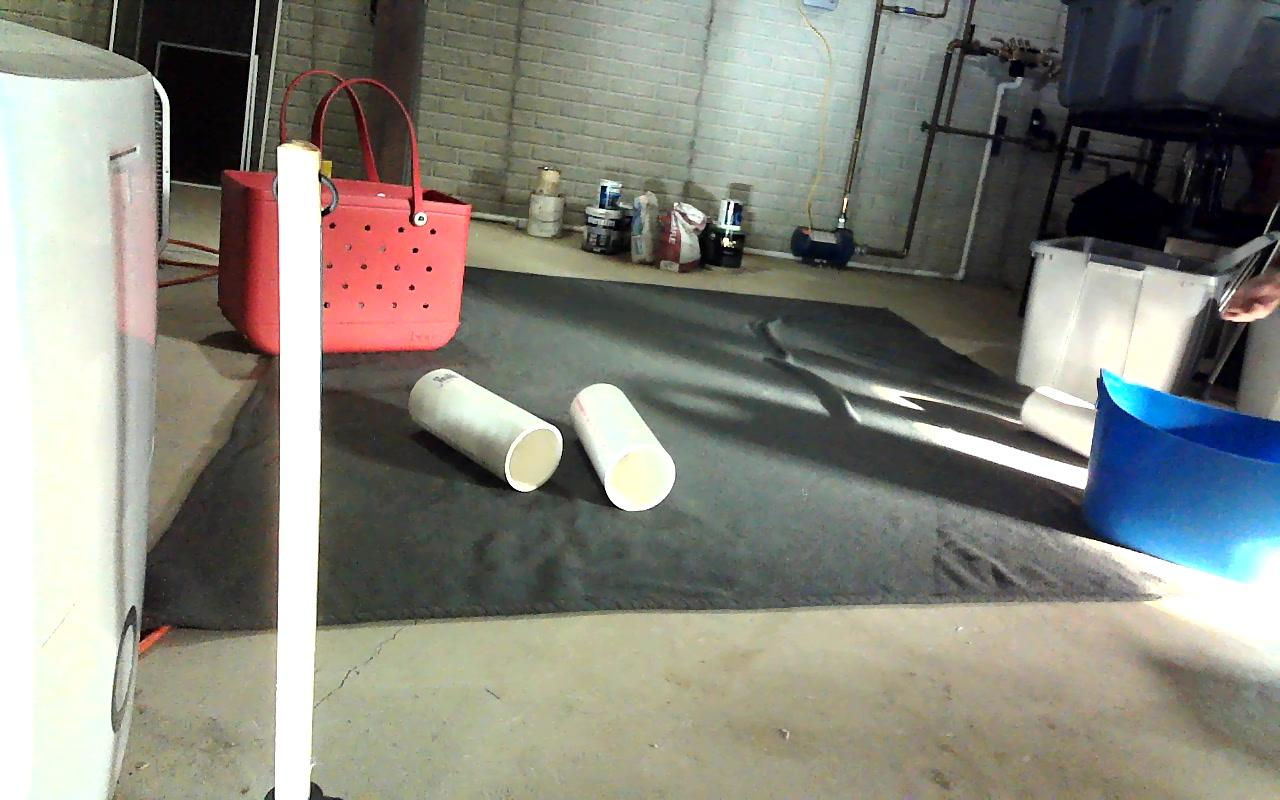coral: (407, 369, 564, 492), (571, 382, 675, 509)
